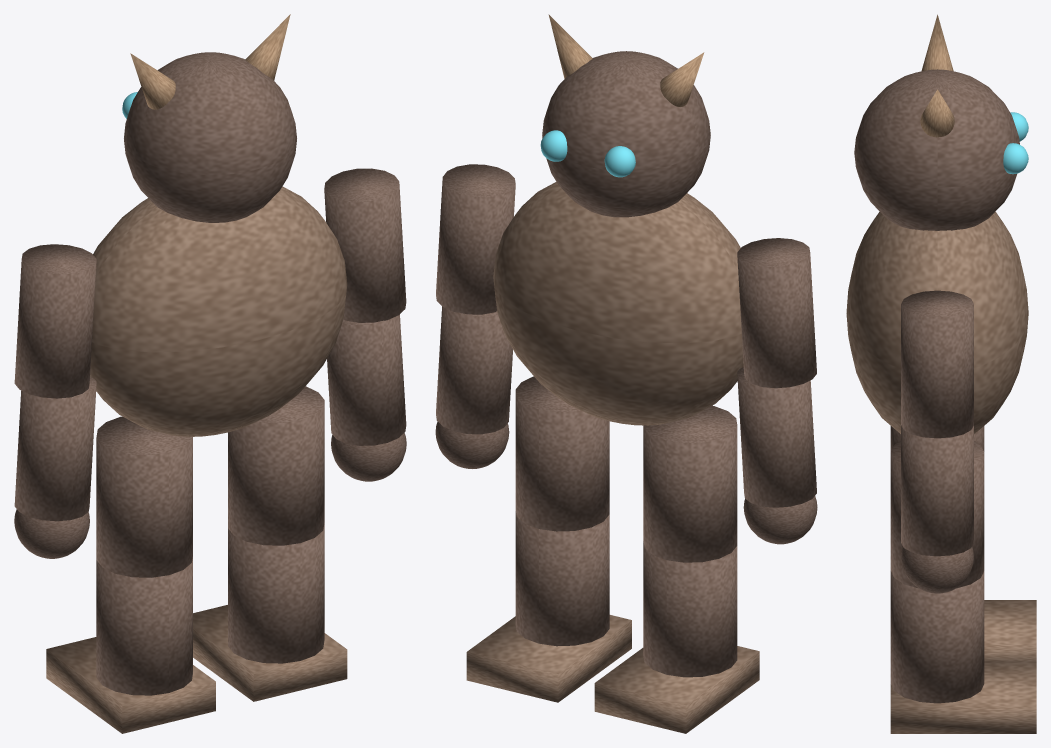
Rendered from incubus.glb.
The picture shows the model from 3 angles, left to right: view 1: azimuth 30°, elevation 25°; view 2: azimuth 150°, elevation 25°; view 3: azimuth 270°, elevation 25°; orthographic projection. The views are drawn at different scales.
Parts seen in each view (by area): view 1: Torso, Head, ThighL, ThighR, ShinR, ShinL, UpperArmL, UpperArmR, ForearmL, ForearmR, FootL, FootR (+4 smaller); view 2: Torso, Head, ThighL, ThighR, ShinL, ShinR, UpperArmL, UpperArmR, ForearmL, ForearmR, FootR, FootL (+6 smaller); view 3: Torso, Head, ShinR, UpperArmR, ForearmR, FootR, FootL, ThighR, HandR, Horn.001, Horn, Eye.001 (+1 smaller).
Part boxes in pixels (x1,y1,x2,y2): Torso: (90, 186, 347, 436); Head: (124, 52, 296, 222); ThighL: (96, 416, 192, 577); ThighR: (228, 386, 324, 545); ShinR: (228, 523, 324, 663); ShinL: (96, 557, 192, 695); UpperArmL: (14, 244, 96, 398); UpperArmR: (324, 168, 406, 322); ForearmL: (14, 377, 96, 521); ForearmR: (327, 314, 406, 445); FootL: (46, 637, 215, 733); FootR: (193, 605, 347, 701); Torso: (493, 182, 743, 425); Head: (542, 51, 710, 217); ThighL: (643, 405, 737, 562); ThighR: (515, 376, 609, 531); ShinL: (643, 541, 737, 677); ShinR: (515, 511, 609, 646); UpperArmL: (737, 238, 816, 388); UpperArmR: (436, 164, 515, 314); ForearmL: (737, 367, 816, 507); ForearmR: (436, 306, 512, 434); FootR: (466, 615, 631, 702); FootL: (594, 646, 759, 733); Torso: (846, 211, 1028, 433); Head: (854, 69, 1019, 230); ShinR: (890, 571, 984, 703); UpperArmR: (901, 290, 973, 438); ForearmR: (901, 425, 973, 556); FootR: (890, 661, 1036, 733); FootL: (984, 600, 1036, 661); ThighR: (890, 441, 984, 588); HandR: (901, 547, 973, 593); Horn.001: (920, 89, 954, 137); Horn: (921, 14, 953, 71); Eye.001: (1003, 143, 1028, 174).
Size of the model in its own units: 0.5982 by 0.9793 by 0.2679.
4 materials, 3 textured.
